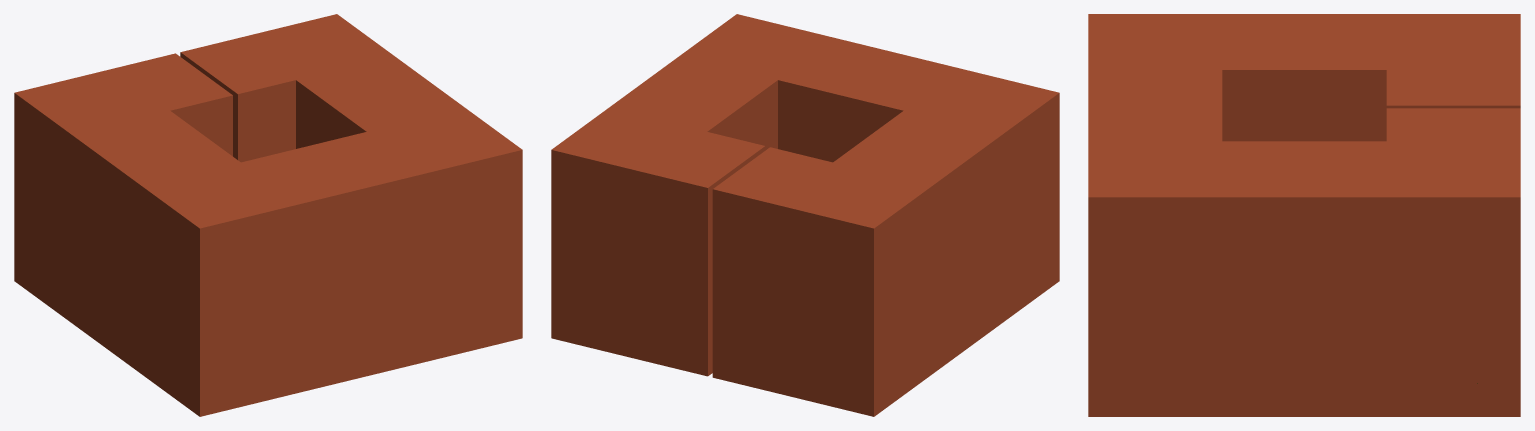
Rendered from room_5_4.glb.
3 renders of one model, left to right at view 1: azimuth 30°, elevation 25°; view 2: azimuth 150°, elevation 25°; view 3: azimuth 270°, elevation 25°, orthographic. The views are drawn at different scales.
Parts seen in each view (by area): view 1: komnata_5_tupik; view 2: komnata_5_tupik; view 3: komnata_5_tupik.
Boxes of the visible parts, x1,y1,x2,y2 form: komnata_5_tupik: (14, 14, 522, 416); komnata_5_tupik: (551, 14, 1059, 416); komnata_5_tupik: (1088, 14, 1520, 416).
Size of what is drawn, in the model's own units: 4.47 by 2.49 by 4.45.
